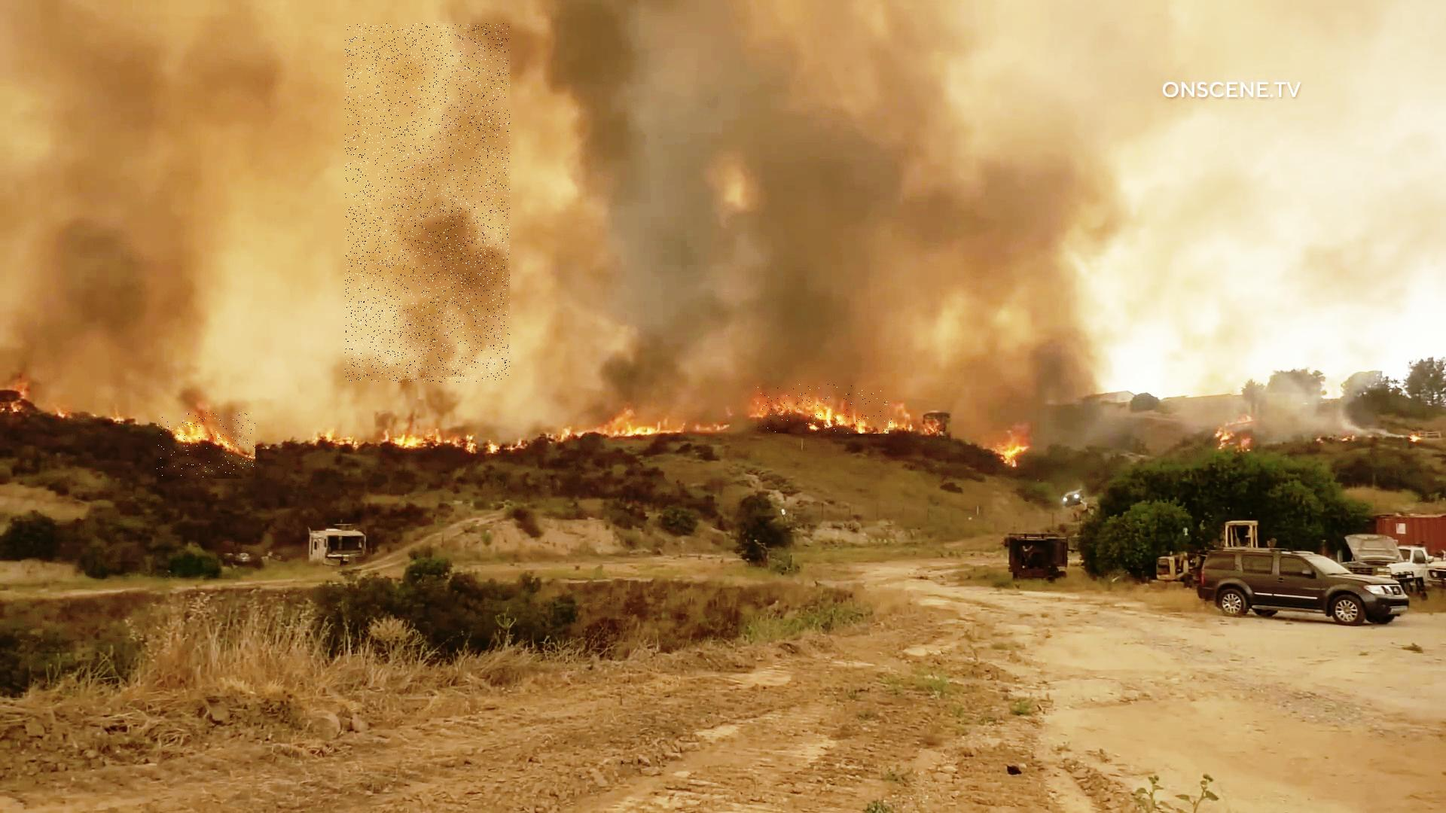fire: (757, 384, 892, 434), (157, 413, 255, 479)
smoke: (345, 24, 510, 383)
